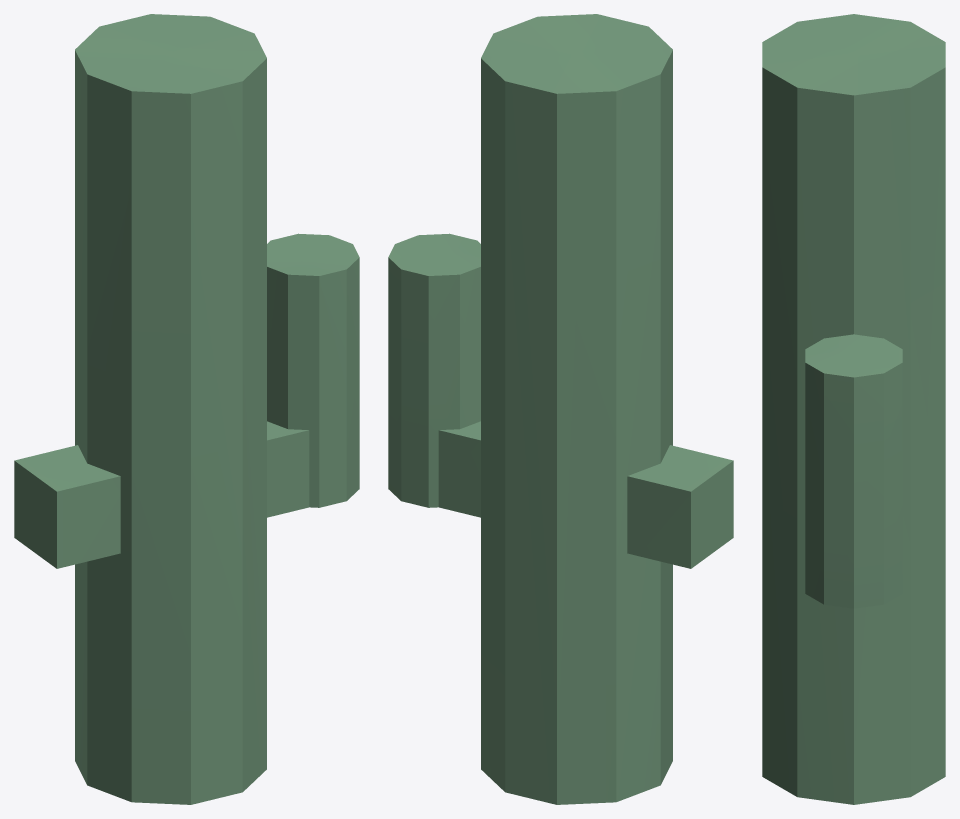
The model's file is cactus-08.glb.
3 renders of one model, left to right at view 1: azimuth 30°, elevation 25°; view 2: azimuth 150°, elevation 25°; view 3: azimuth 270°, elevation 25°, orthographic.
Parts seen in each view (by area): view 1: world; view 2: world; view 3: world.
Part boxes in pixels (x1,y1,x2,y2): world: (14,14,359,804); world: (388,14,733,804); world: (762,14,945,804).
Size of the model in its own units: 0.645 by 1.38 by 0.3234.
